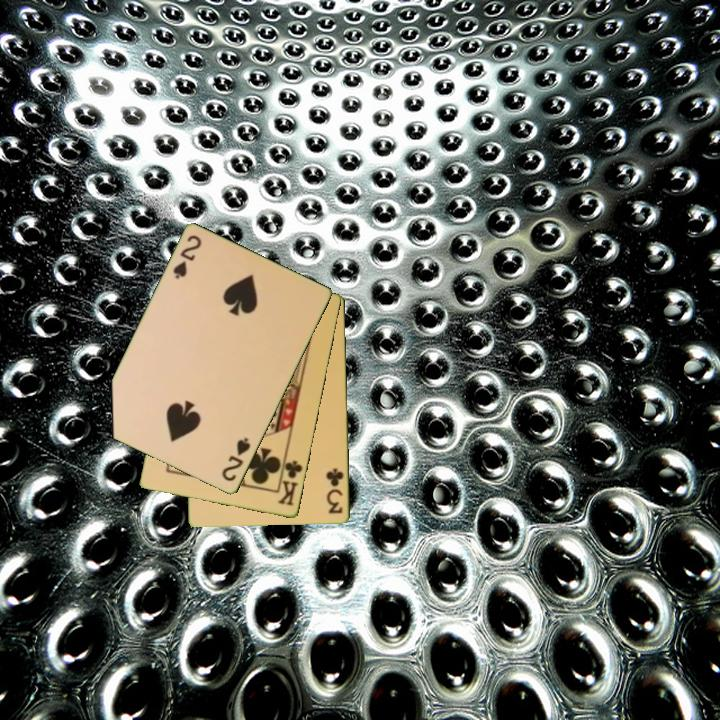2s: (219, 434, 254, 485), (170, 232, 205, 283)
3c: (323, 465, 347, 517)
Kc: (275, 453, 306, 509)
